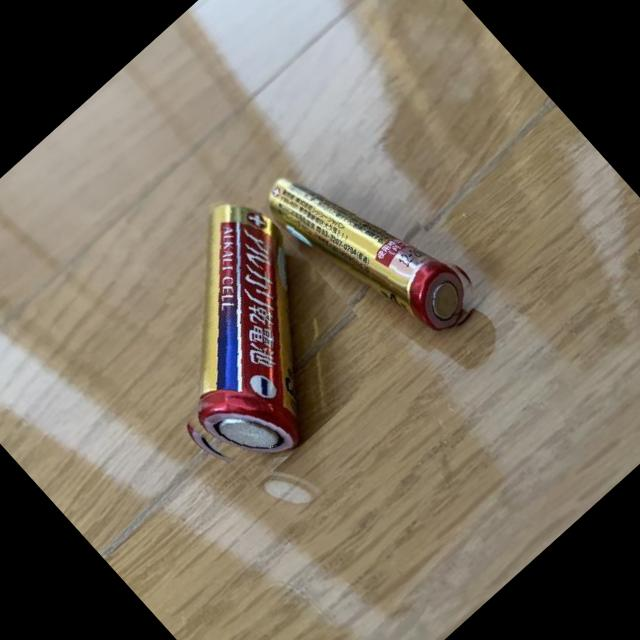Hazard: (75, 177, 398, 502), (252, 122, 492, 372)
